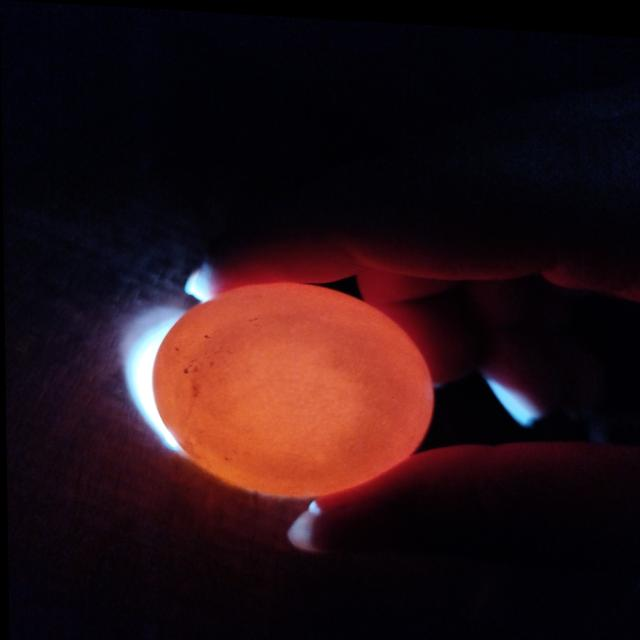Camara de Ar: (214, 333, 356, 453)
